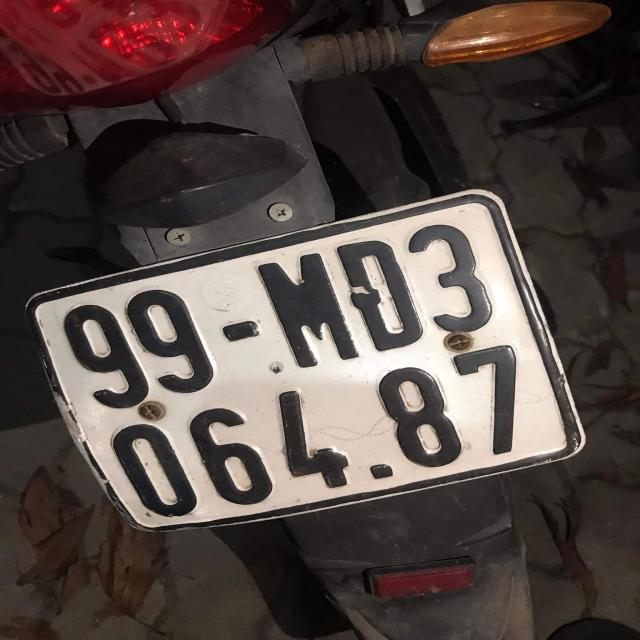0: (109, 418, 198, 520)
3: (408, 220, 496, 338)
4: (270, 386, 353, 493)
6: (189, 403, 273, 509)
7: (457, 342, 526, 461)
8: (376, 363, 462, 472)
9: (128, 287, 218, 396), (62, 300, 147, 412)
D: (334, 233, 427, 358)
M: (255, 244, 358, 368)
